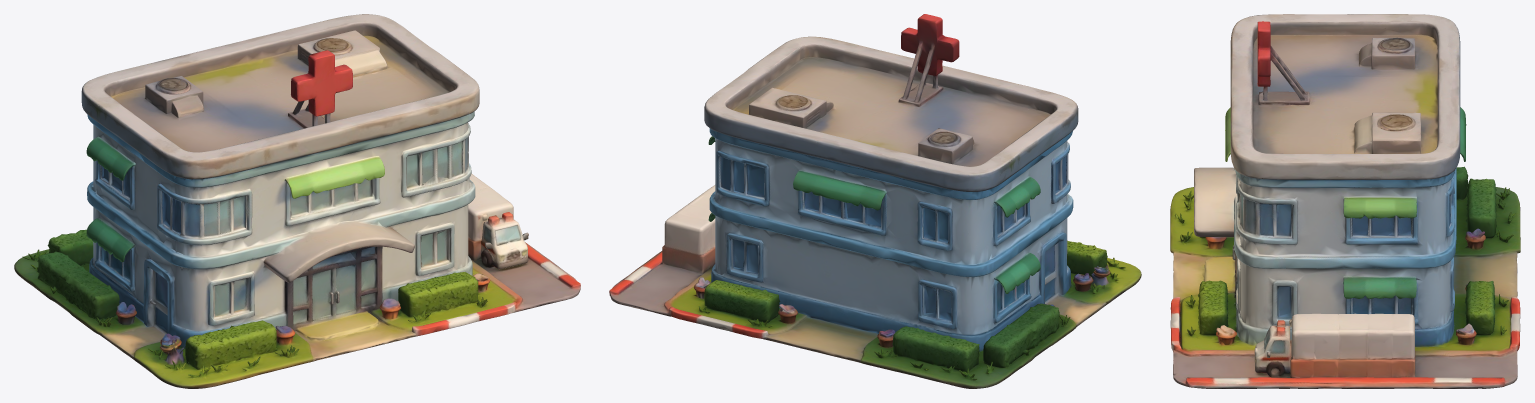
Rendered from hospital.glb.
The picture shows the model from 3 angles, left to right: view 1: azimuth 30°, elevation 25°; view 2: azimuth 150°, elevation 25°; view 3: azimuth 270°, elevation 25°; orthographic projection. The views are drawn at different scales.
Parts seen in each view (by area): view 1: tripo_node_2be8128a-494f-405e-ac91-535132d14df8; view 2: tripo_node_2be8128a-494f-405e-ac91-535132d14df8; view 3: tripo_node_2be8128a-494f-405e-ac91-535132d14df8.
Boxes of the visible parts, <box> form: tripo_node_2be8128a-494f-405e-ac91-535132d14df8: <box>14,14,580,388</box>; tripo_node_2be8128a-494f-405e-ac91-535132d14df8: <box>609,14,1141,388</box>; tripo_node_2be8128a-494f-405e-ac91-535132d14df8: <box>1170,14,1520,388</box>.
Size of the model in its own units: 1 by 0.6002 by 0.7441.
1 material, 1 textured.
